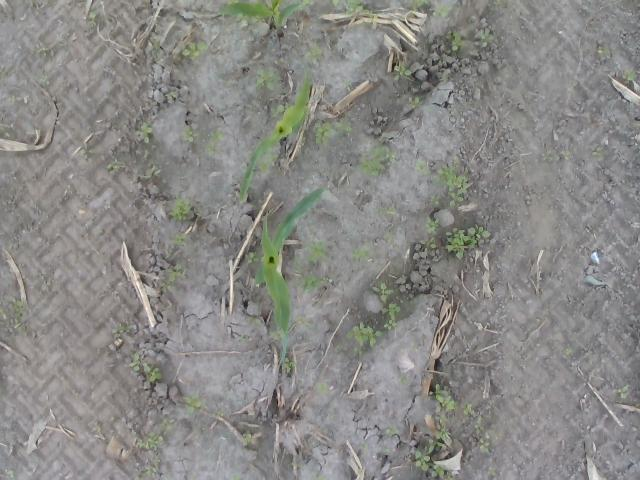Maize: (252, 186, 326, 366), (238, 70, 309, 202), (218, 0, 308, 37)
Weeds: (446, 224, 492, 260), (432, 165, 468, 207), (355, 146, 396, 177), (427, 382, 459, 414), (128, 352, 162, 382), (346, 321, 382, 348), (204, 128, 224, 156), (380, 302, 400, 330), (136, 432, 164, 451), (258, 150, 280, 174), (168, 198, 190, 221), (254, 68, 276, 91), (446, 30, 465, 56), (314, 122, 332, 148), (411, 450, 430, 474), (434, 414, 451, 440), (306, 240, 326, 262), (134, 122, 154, 144), (372, 282, 395, 301), (298, 274, 322, 292), (349, 245, 373, 263), (182, 42, 207, 59), (430, 463, 454, 480), (184, 391, 202, 413), (166, 263, 186, 282), (306, 41, 322, 64), (138, 164, 160, 180), (148, 36, 162, 61), (395, 61, 411, 82), (235, 13, 262, 25), (10, 295, 24, 318), (146, 456, 160, 478), (182, 125, 198, 144), (431, 3, 451, 18), (346, 0, 364, 16), (480, 28, 494, 48), (420, 236, 436, 253), (336, 118, 352, 134), (111, 326, 132, 338), (170, 233, 188, 247), (295, 315, 313, 329), (271, 102, 289, 116), (374, 205, 394, 217), (414, 160, 430, 175), (612, 385, 629, 399), (409, 0, 428, 12), (106, 160, 125, 172), (428, 438, 443, 453), (426, 217, 440, 233), (80, 143, 94, 159), (478, 437, 491, 453), (86, 11, 98, 28), (40, 275, 51, 293), (472, 416, 483, 434), (366, 8, 378, 24), (385, 424, 401, 436), (243, 251, 260, 262), (160, 418, 174, 431), (284, 358, 296, 372), (622, 68, 636, 80), (540, 150, 554, 162), (462, 402, 474, 416), (310, 470, 326, 480), (316, 382, 329, 394), (288, 462, 306, 470), (429, 194, 442, 205), (242, 432, 252, 446), (160, 281, 171, 293), (409, 96, 420, 108), (246, 316, 262, 324), (270, 330, 282, 340), (91, 420, 101, 432), (5, 95, 22, 102), (384, 231, 393, 243), (343, 78, 351, 91), (36, 42, 46, 52), (560, 149, 570, 159), (13, 318, 22, 329), (142, 149, 151, 160), (598, 48, 610, 56), (590, 147, 602, 155), (300, 135, 308, 147), (165, 92, 178, 99), (487, 466, 496, 476), (353, 347, 363, 356), (294, 256, 300, 270), (361, 442, 369, 452), (398, 376, 408, 384), (216, 411, 227, 418), (0, 308, 7, 319), (40, 74, 49, 82), (7, 469, 15, 478), (438, 75, 448, 82), (564, 348, 572, 356), (240, 336, 248, 344), (232, 473, 241, 480), (228, 0, 240, 5), (331, 0, 341, 5), (327, 413, 334, 420), (412, 343, 418, 351), (492, 0, 500, 6), (439, 55, 445, 62), (322, 274, 328, 280)
